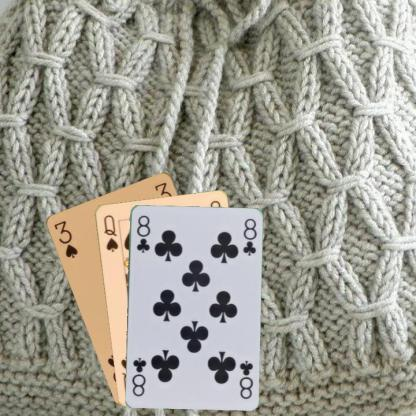3s: (50, 218, 80, 260)
8c: (134, 212, 152, 254), (236, 358, 254, 400)
Qs: (100, 212, 119, 253)
